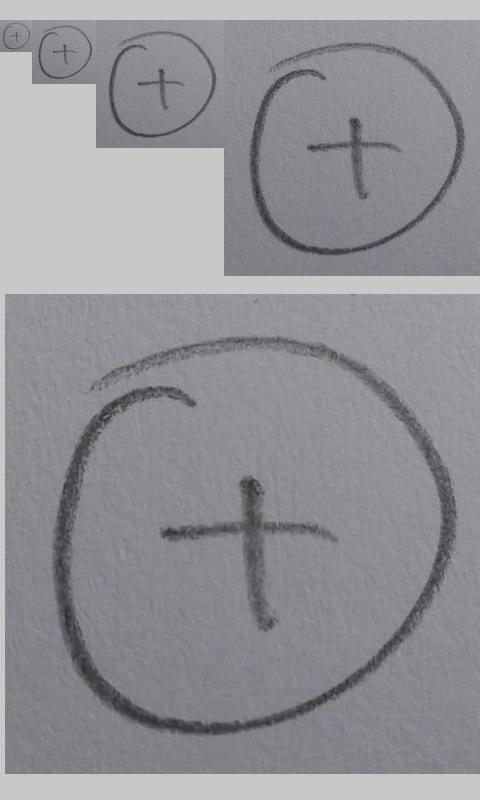button: (52, 334, 457, 737), (249, 41, 464, 256), (108, 30, 218, 139), (38, 25, 92, 79), (3, 22, 30, 50)
